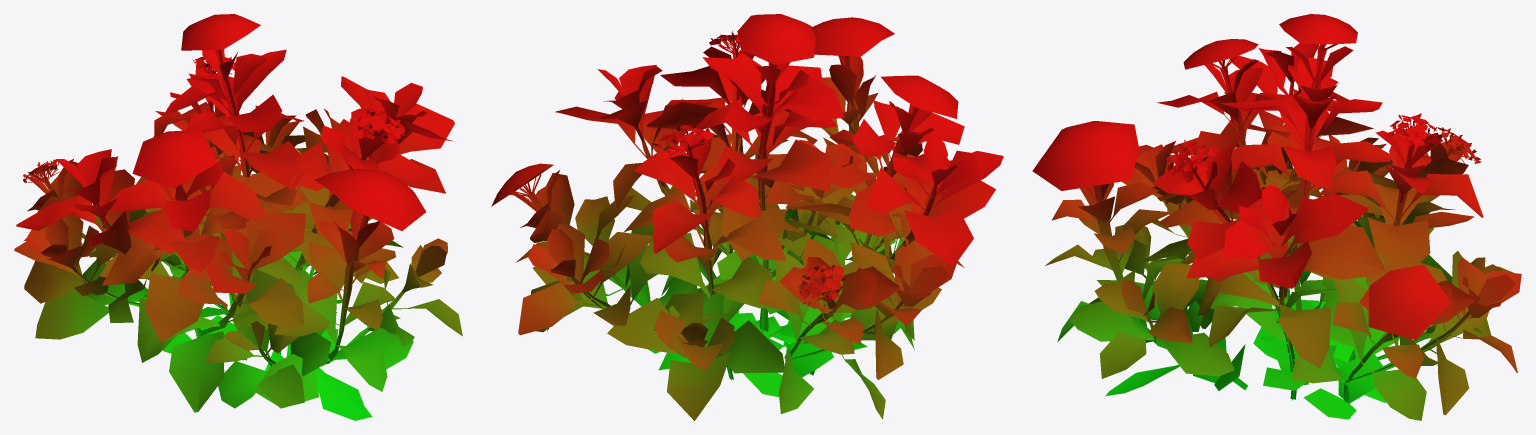
Rendered from Var4_LOD4.fbx.
3 views of the same model, side by side, from view 1: azimuth 30°, elevation 25°; view 2: azimuth 150°, elevation 25°; view 3: azimuth 270°, elevation 25° (orthographic). The views are drawn at different scales.
Visible parts, largest first — view 1: _6ykr_Var4_LOD4; view 2: _6ykr_Var4_LOD4; view 3: _6ykr_Var4_LOD4.
Part boxes in pixels (x1=…): _6ykr_Var4_LOD4: x1=14, y1=14, x2=462, y2=420; _6ykr_Var4_LOD4: x1=491, y1=14, x2=1003, y2=420; _6ykr_Var4_LOD4: x1=1032, y1=14, x2=1521, y2=420.
Size of the model in its own units: 127 by 101 by 124.
